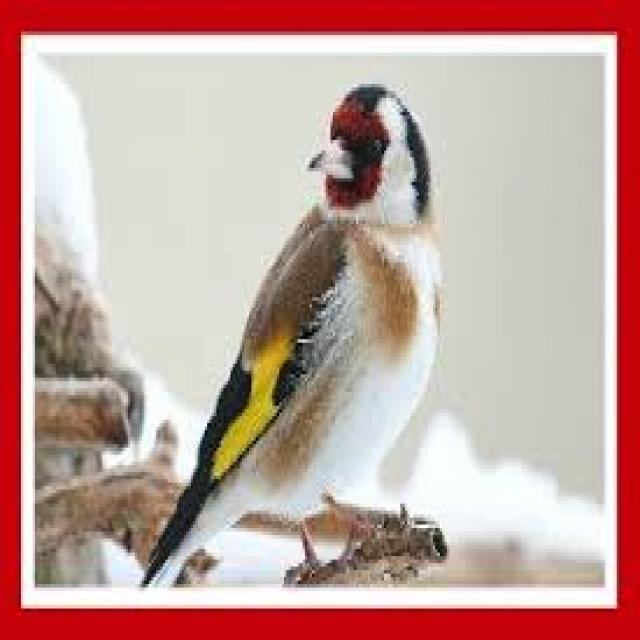bird: (101, 52, 481, 594)
